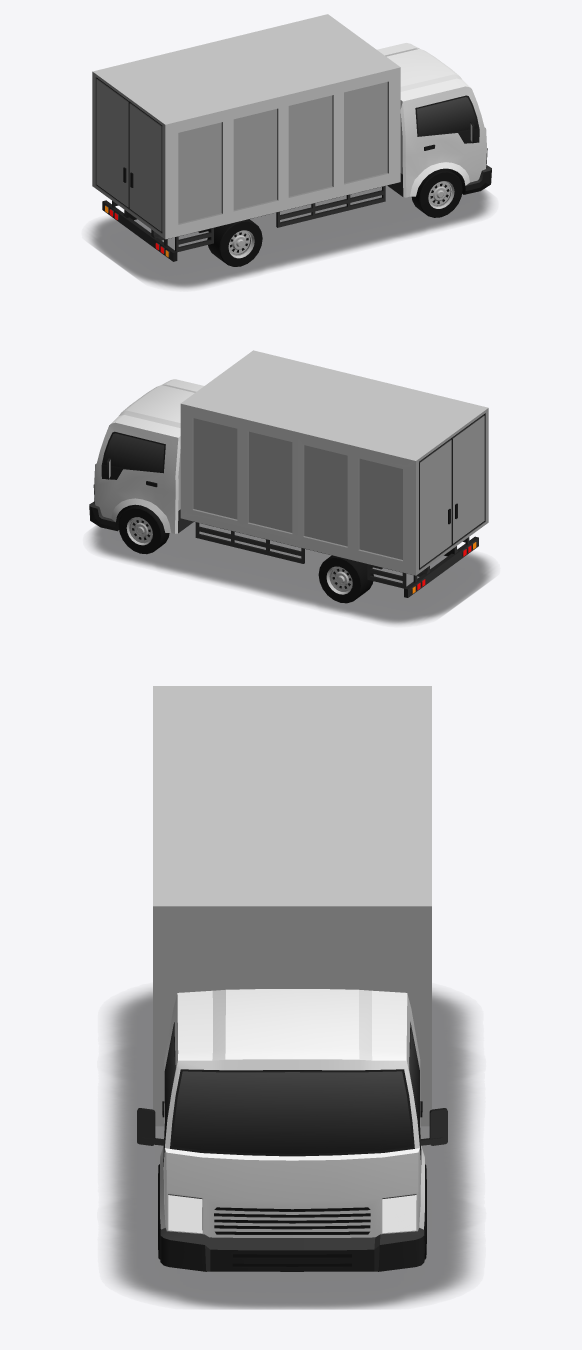
3 views of the same model, one above another, from view 1: azimuth 30°, elevation 25°; view 2: azimuth 150°, elevation 25°; view 3: azimuth 270°, elevation 25° (orthographic). The views are drawn at different scales.
Parts seen in each view (by area): view 1: ARCADE_UVP_ColorVar1_Material.001_0_10_Ext1, Shadow; view 2: ARCADE_UVP_ColorVar1_Material.001_0_10_Ext1, Shadow; view 3: ARCADE_UVP_ColorVar1_Material.001_0_10_Ext1, Shadow.
Boxes of the visible parts, left/top/right/bottom form: ARCADE_UVP_ColorVar1_Material.001_0_10_Ext1: left=92, top=14, right=491, bottom=266; Shadow: left=89, top=185, right=491, bottom=288; ARCADE_UVP_ColorVar1_Material.001_0_10_Ext1: left=89, top=350, right=488, bottom=603; Shadow: left=90, top=522, right=492, bottom=624; ARCADE_UVP_ColorVar1_Material.001_0_10_Ext1: left=137, top=686, right=447, bottom=1271; Shadow: left=109, top=989, right=474, bottom=1308.
Size of the model in its own units: 6.95 by 2.62 by 4.25.
3 materials, 3 textured.
